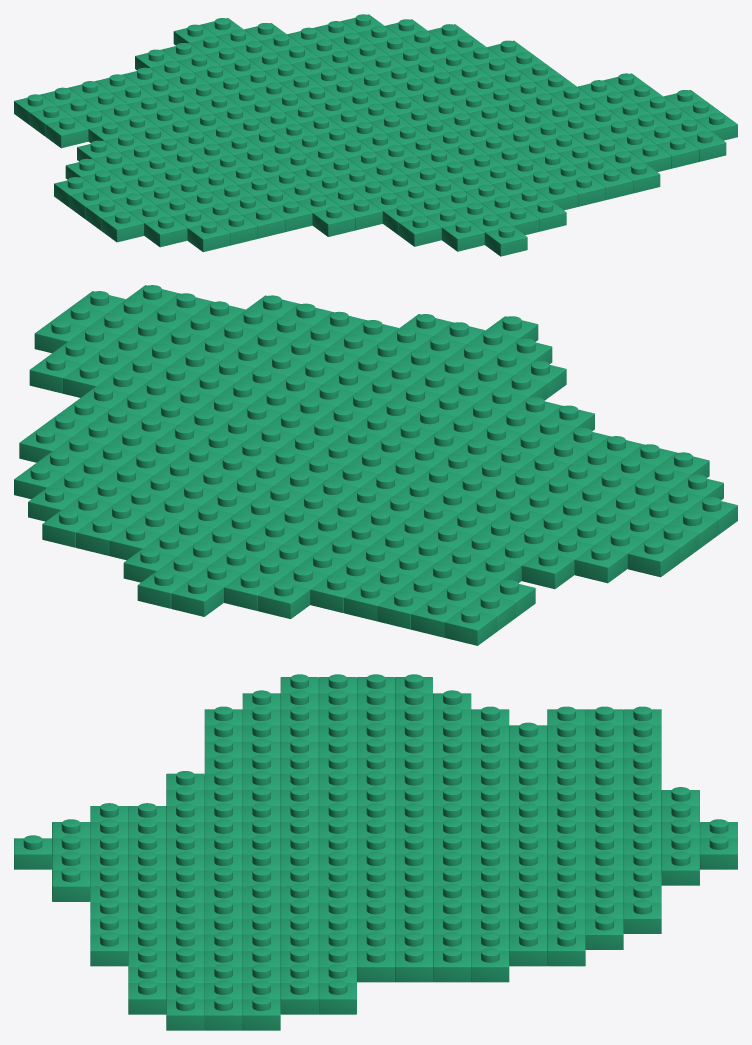
Rendered from Afghanistan.fbx.
3 views of the same model, one above another, from view 1: azimuth 30°, elevation 25°; view 2: azimuth 150°, elevation 25°; view 3: azimuth 270°, elevation 25° (orthographic). The views are drawn at different scales.
Parts seen in each view (by area): view 1: Cylinder_33; view 2: Cylinder_33; view 3: Cylinder_33.
Part boxes in pixels (<box>): Cylinder_33: <box>14,14,737,256</box>; Cylinder_33: <box>14,285,737,645</box>; Cylinder_33: <box>14,674,737,1030</box>.
Size of the model in its own units: 2100 by 65.03 by 1900.
